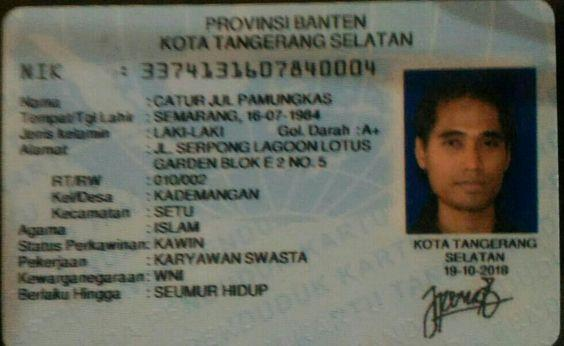ID-card: (3, 1, 558, 340)
